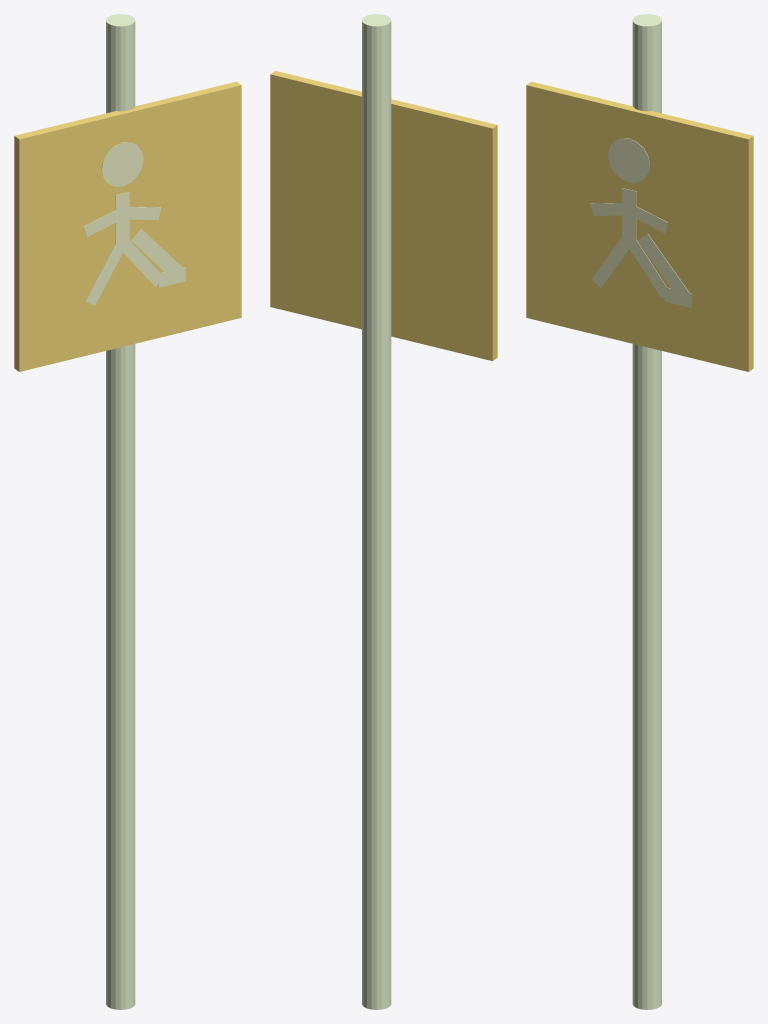
The model's file is sign_construction_warning.glb.
3 views of the same model, side by side, from view 1: azimuth 30°, elevation 25°; view 2: azimuth 150°, elevation 25°; view 3: azimuth 330°, elevation 25° (orthographic).
Visible parts, largest first — view 1: plate_base_00, pole, layer_1_00, layer_1_06, layer_1_04, layer_1_01, layer_1_05; view 2: plate_base_00, pole; view 3: plate_base_00, pole, layer_1_00, layer_1_06, layer_1_04, layer_1_05, layer_1_01.
Part boxes in pixels (box(x1,y1,x2,y2)): plate_base_00: box(14, 81, 241, 371); pole: box(106, 14, 135, 1009); layer_1_00: box(101, 142, 143, 186); layer_1_06: box(131, 228, 184, 280); layer_1_04: box(85, 240, 126, 305); layer_1_01: box(115, 192, 129, 243); layer_1_05: box(119, 238, 163, 286); plate_base_00: box(270, 71, 497, 360); pole: box(362, 14, 391, 1009); plate_base_00: box(526, 81, 753, 371); pole: box(632, 14, 661, 1009); layer_1_00: box(608, 138, 649, 182); layer_1_06: box(638, 234, 690, 302); layer_1_04: box(591, 236, 633, 288); layer_1_05: box(625, 237, 670, 298); layer_1_01: box(622, 188, 636, 239).
Size of the model in its own units: 0.5204 by 2.2 by 0.071.
